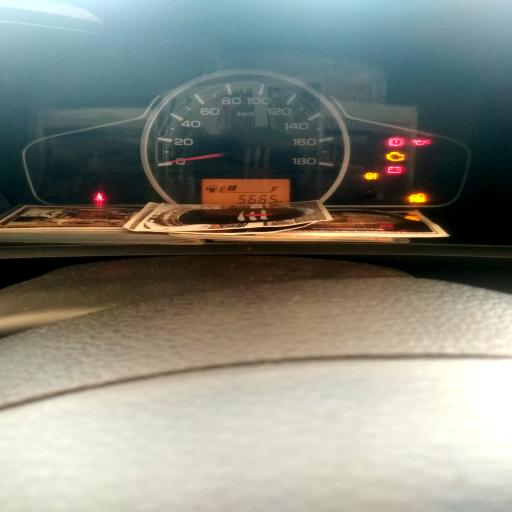belt: (94, 192, 104, 202)
brake_system_fault: (389, 138, 404, 148)
car_closed: (409, 192, 426, 204)
check_engine: (386, 151, 405, 162)
oil: (413, 140, 430, 146)
vehicle_charging: (388, 166, 402, 174)
